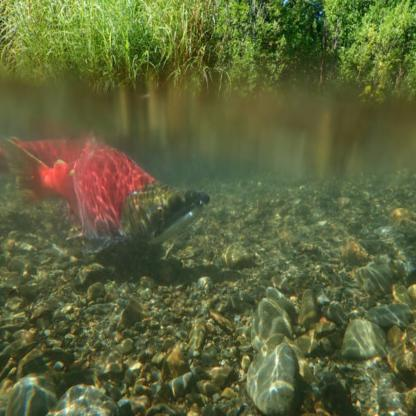sockeye: (4, 125, 212, 255)
